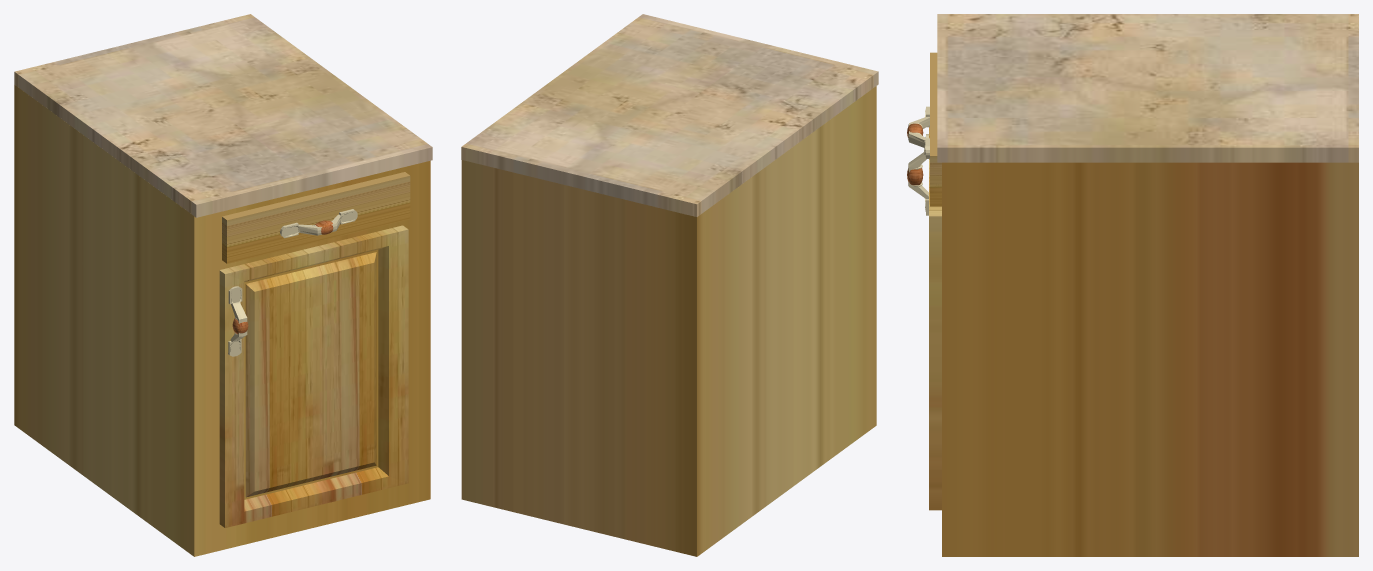
File: 1DoorLowerCabinet.glb
The picture shows the model from 3 angles, left to right: view 1: azimuth 30°, elevation 25°; view 2: azimuth 150°, elevation 25°; view 3: azimuth 270°, elevation 25°; orthographic projection. The views are drawn at different scales.
Visible parts, largest first — view 1: 1DoorLowerCabinet; view 2: 1DoorLowerCabinet; view 3: 1DoorLowerCabinet.
Part boxes in pixels (left/top/right/bottom): 1DoorLowerCabinet: left=14, top=14, right=432, bottom=556; 1DoorLowerCabinet: left=461, top=14, right=878, bottom=556; 1DoorLowerCabinet: left=907, top=14, right=1358, bottom=556.
Bounding box in the file's own units: 0.519 × 0.7419 × 0.7419.
4 materials, 3 textured.
